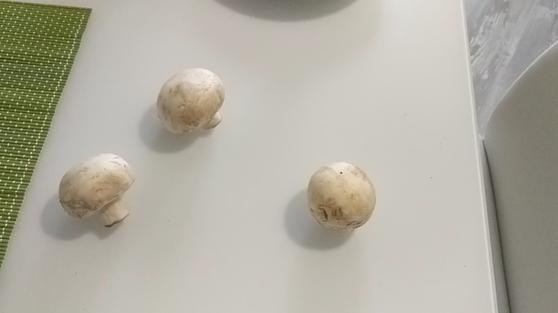champignon: (61, 153, 135, 234), (157, 60, 228, 141), (306, 162, 375, 226)
